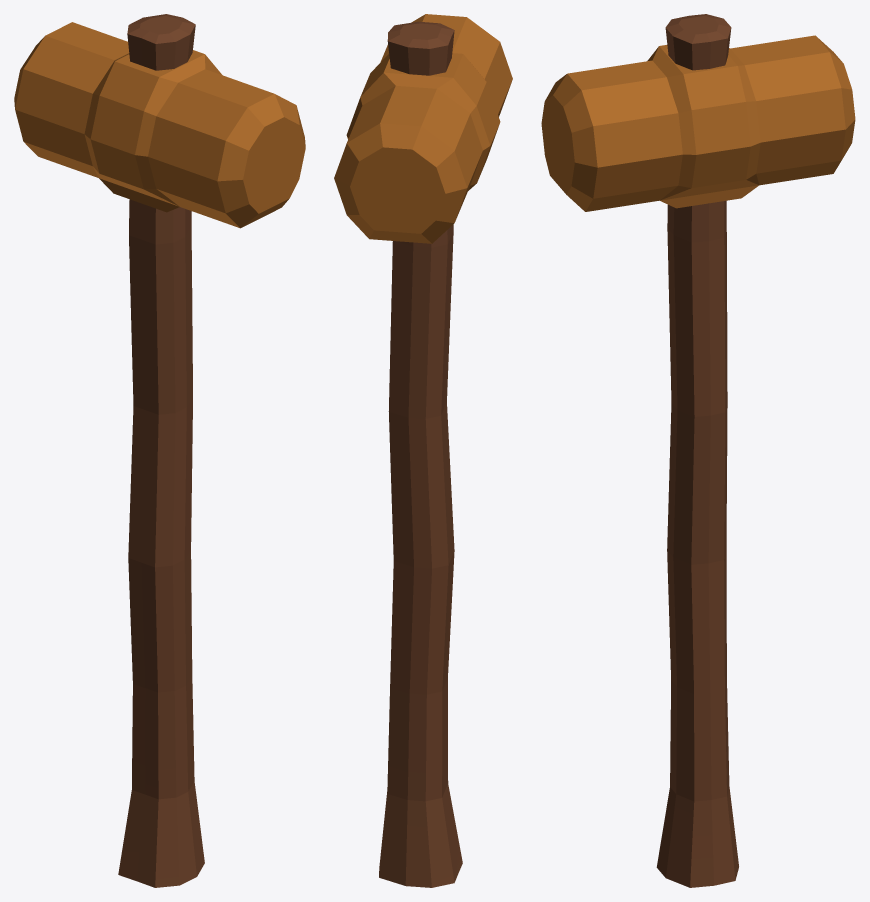
The model's file is hammer_rusty.glb.
The picture shows the model from 3 angles, left to right: view 1: azimuth 30°, elevation 25°; view 2: azimuth 150°, elevation 25°; view 3: azimuth 270°, elevation 25°; orthographic projection.
Parts seen in each view (by area): view 1: HammerV12; view 2: HammerV12; view 3: HammerV12.
Part boxes in pixels (<box>): HammerV12: <box>14,14,305,887</box>; HammerV12: <box>334,14,512,887</box>; HammerV12: <box>541,14,855,887</box>.
Bounding box in the file's own units: 0.1539 × 0.6564 × 0.2213.
Materials: 2 (2 with a texture image).
